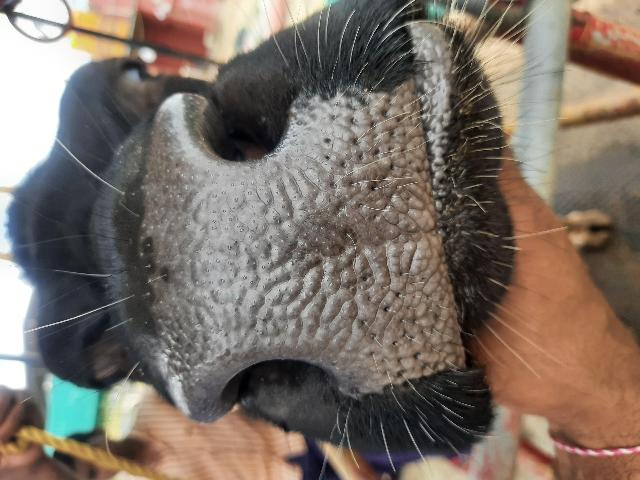Muzzle: (150, 169, 448, 351)
